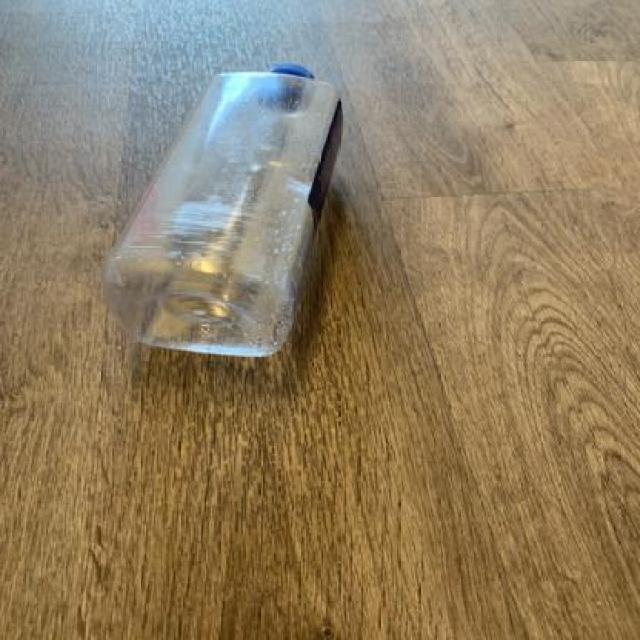trash: (96, 57, 347, 365)
